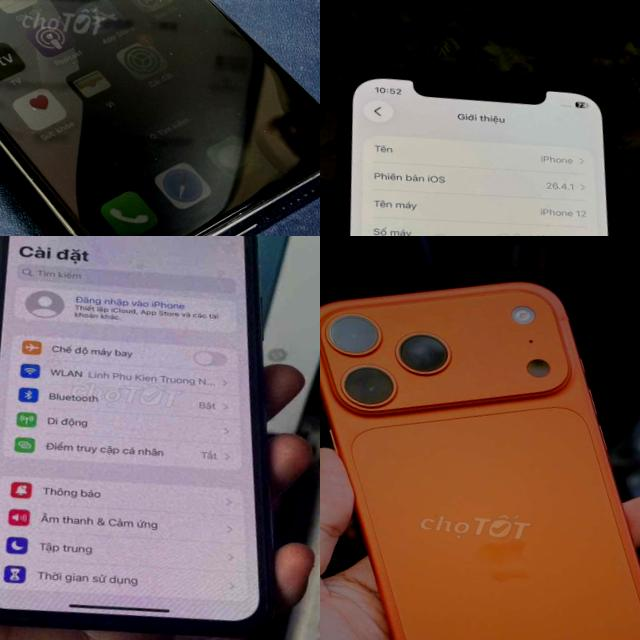gen_12_13: (0, 0, 320, 236), (320, 52, 640, 236)
gen_17: (320, 260, 640, 640)
gen_x_xs: (0, 236, 308, 640)
